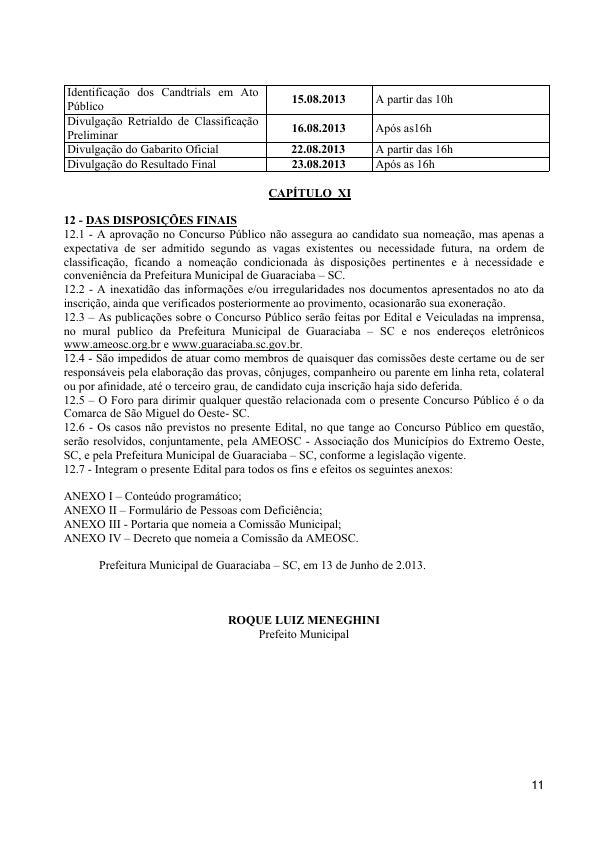table: (62, 81, 553, 175)
text: (62, 214, 548, 478), (63, 488, 362, 546), (224, 613, 387, 645), (96, 560, 428, 574), (265, 185, 358, 205)
